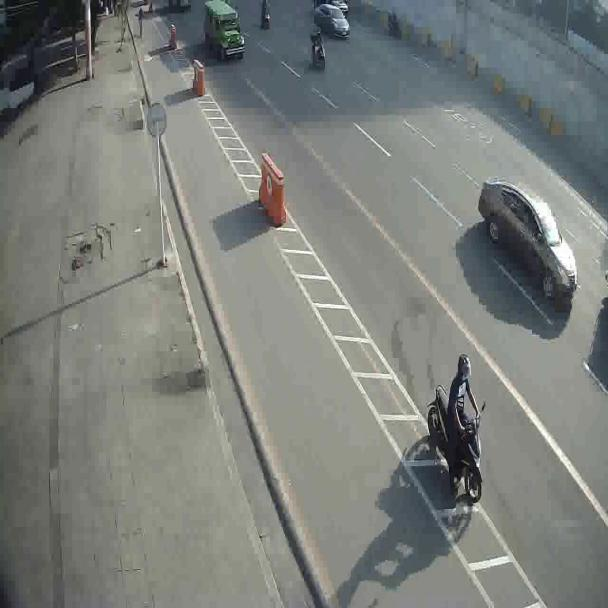motorcyclist: (426, 349, 485, 503), (308, 29, 328, 70)
vehicle: (472, 178, 580, 308), (200, 1, 244, 58), (312, 1, 352, 40)
